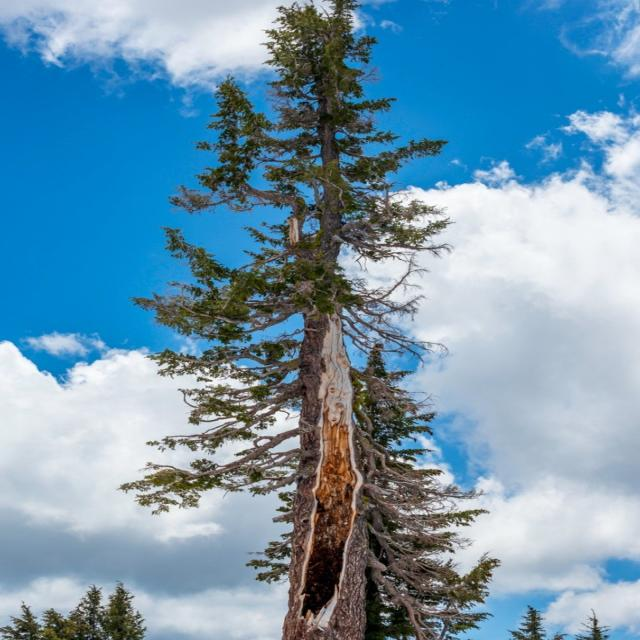Abies: (136, 0, 519, 640)
